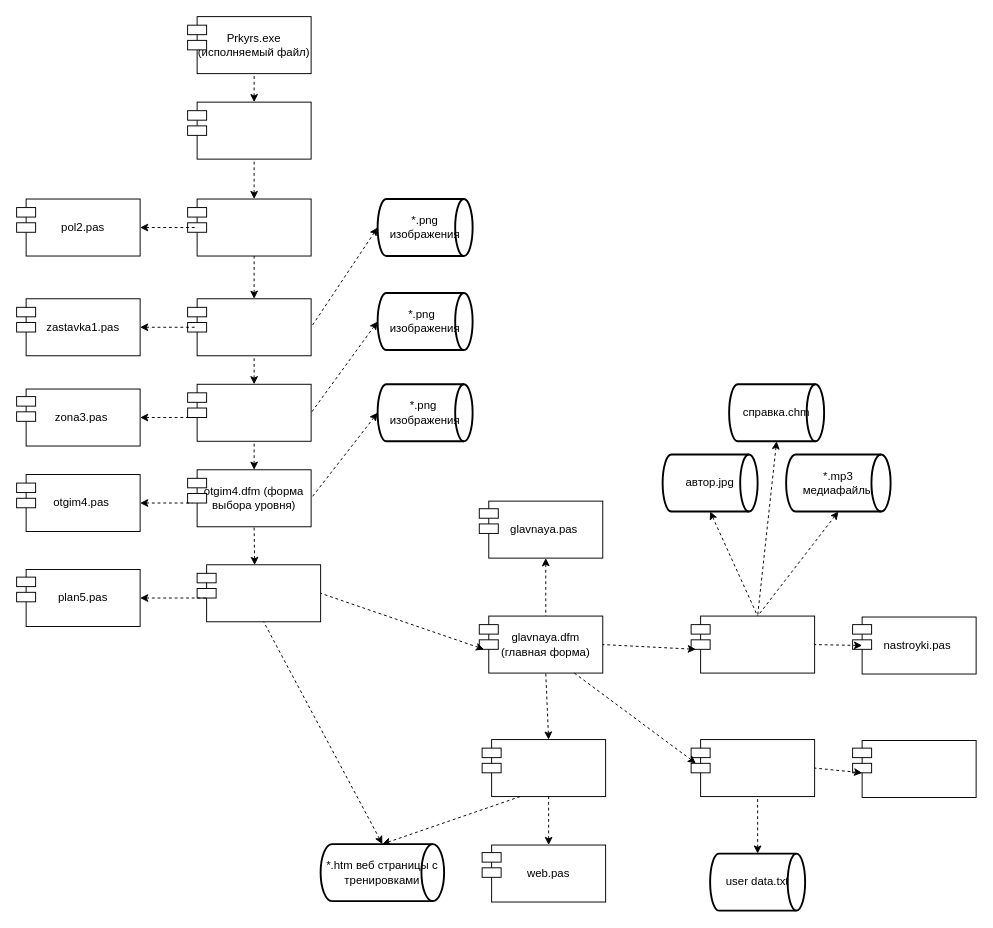
The diagram is 993 pixels wide and 928 high, and some of its shapes have lost their labels. The shapes that lost their labels are listed below. From the top down, each one's centre as x and y in pixels, then its label:
(253,130): Prkyrs.dpr (файл проекта)
(253,227): pol2.dfm (форма загрузки приложения)
(253,327): zastavka1.dfm (форма выбора пола)
(253,412): zona3.dfm (форма выбора зоны)
(263,593): plan5.dfm (форма с планом тренировки)
(757,644): nastroyki.dfm
(548,768): web.dfm (форма демонстрации тренировки)
(757,768): otchet.dfm (форма с отчетом)
(918,769): otchet.pas
